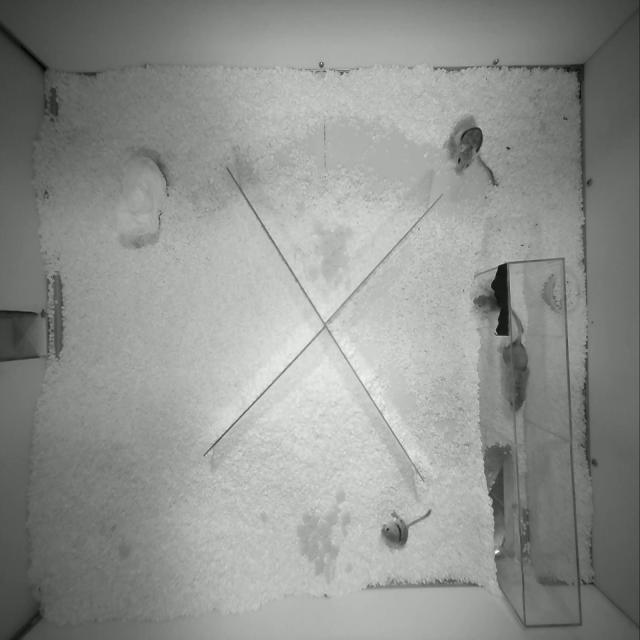adult_back: (502, 310, 529, 411)
adult_front: (454, 127, 496, 186)
pup_fluffy: (474, 292, 500, 311)
pup_h_stripe: (381, 510, 431, 547)
